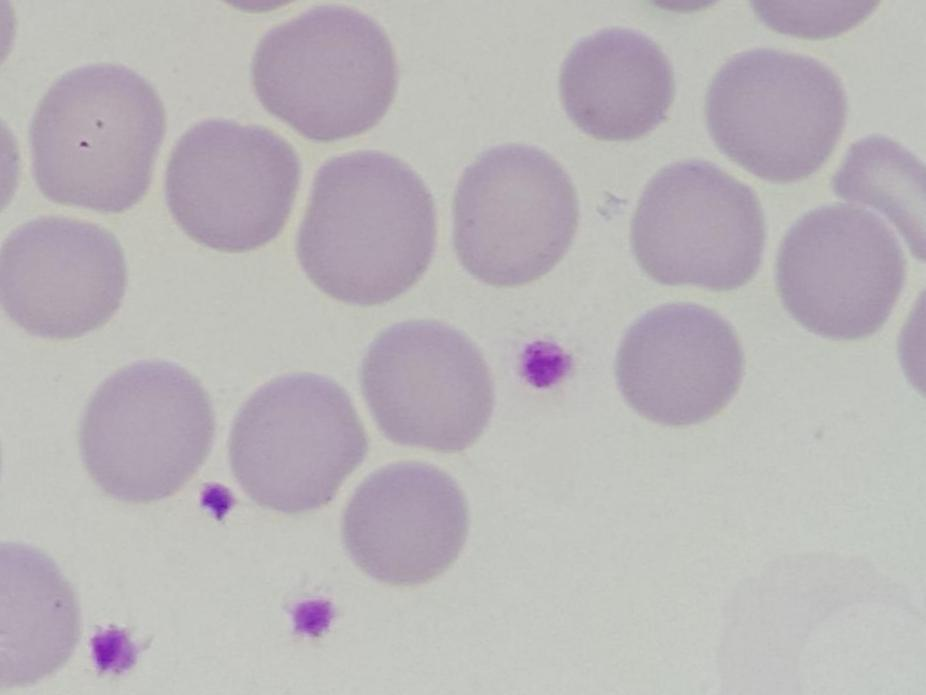Uninfected: (254, 0, 400, 143), (299, 155, 437, 304), (700, 49, 847, 184), (29, 68, 166, 212), (228, 372, 369, 511), (82, 362, 217, 503), (164, 116, 299, 252), (630, 156, 766, 289), (452, 145, 579, 284), (360, 319, 492, 450), (776, 204, 903, 340), (616, 301, 744, 427), (342, 460, 472, 582), (0, 218, 126, 341), (560, 28, 672, 139), (0, 539, 81, 687)
